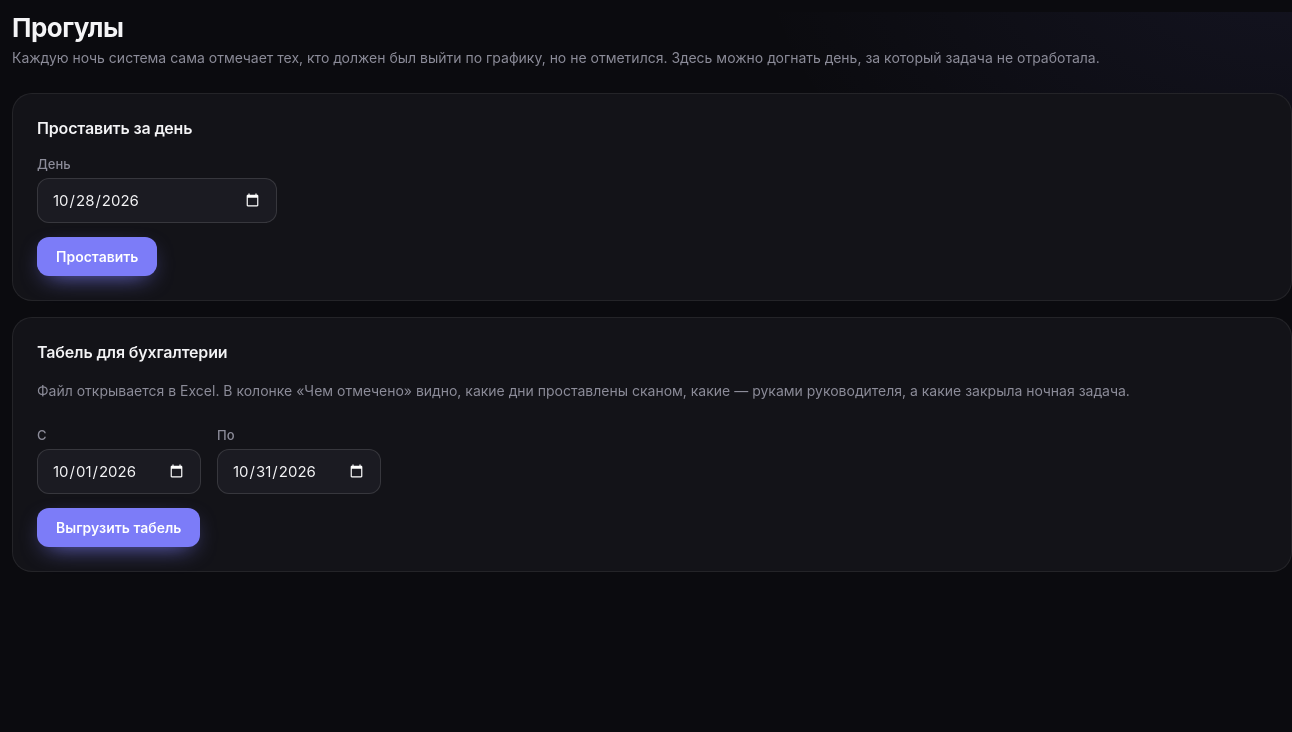
Scenario: прогулы: что показано после запуска › ноль прогулов объясняется, а не выглядит сбоем
Click the button "Проставить".
click(97, 257)  # box [37,237,158,276]
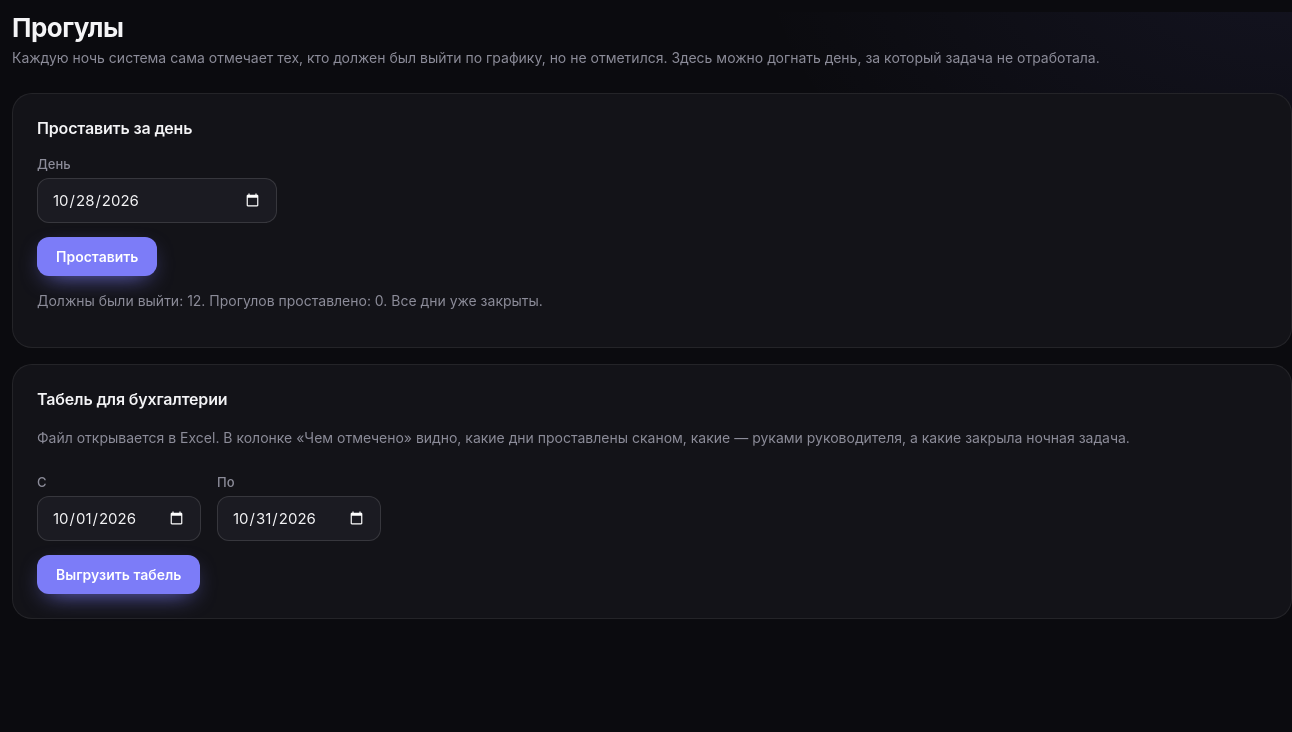
Expected: the text "Все дни уже закрыты" is shown, [387,292,543,309]
